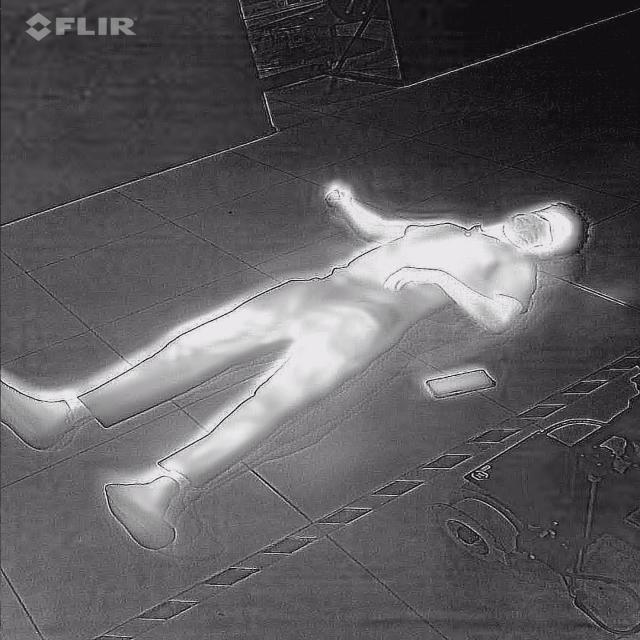Victim: (1, 184, 614, 552)
